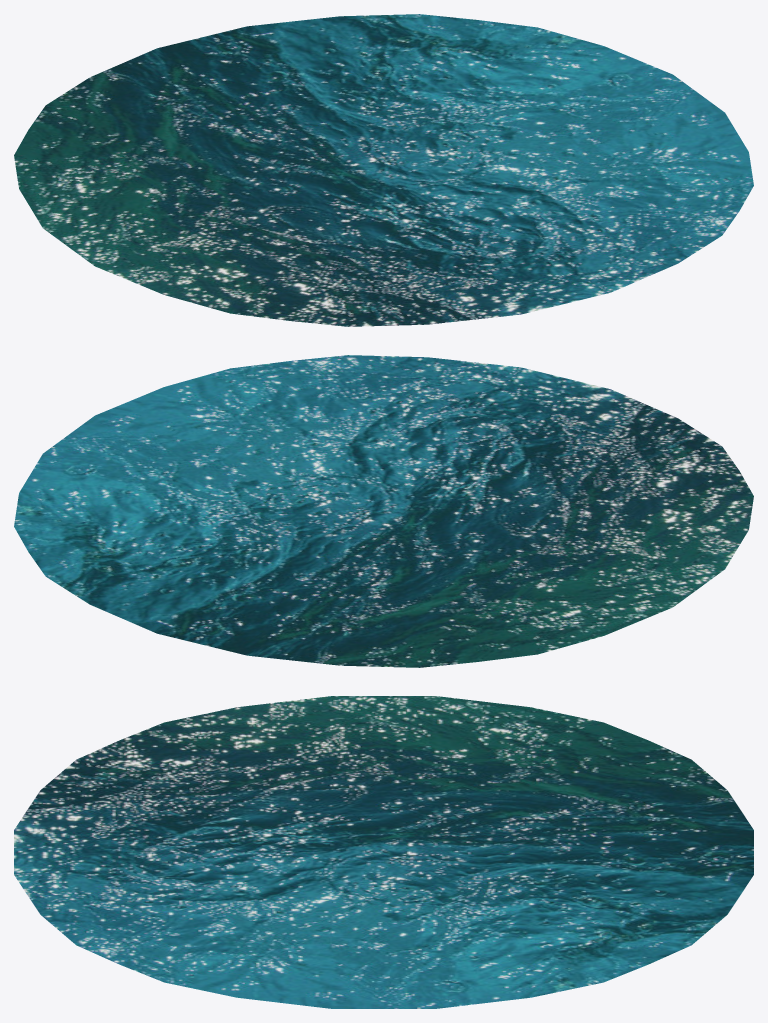
The model's file is water rond.fbx.
3 views of the same model, one above another, from view 1: azimuth 30°, elevation 25°; view 2: azimuth 150°, elevation 25°; view 3: azimuth 270°, elevation 25° (orthographic).
Parts seen in each view (by area): view 1: pPlane1; view 2: pPlane1; view 3: pPlane1.
Part boxes in pixels (box(x1,y1,x2,y2)): pPlane1: box(14, 14, 753, 326); pPlane1: box(14, 355, 753, 667); pPlane1: box(14, 696, 753, 1008).
Bounding box in the file's own units: 32.27 × 7.17e-15 × 32.27.
1 material, 1 textured.
